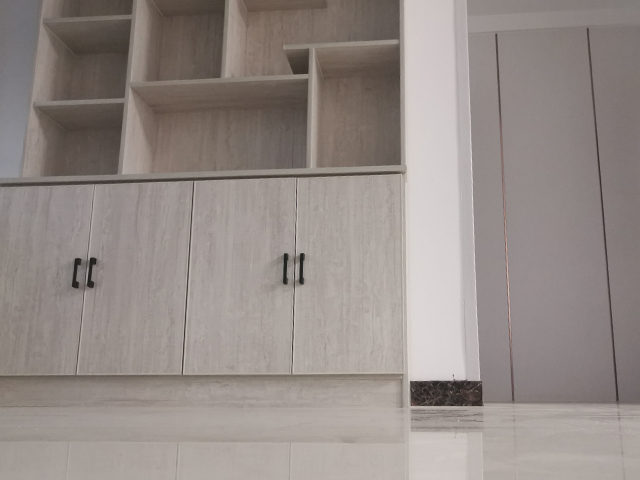cabinet: (1, 162, 403, 412)
